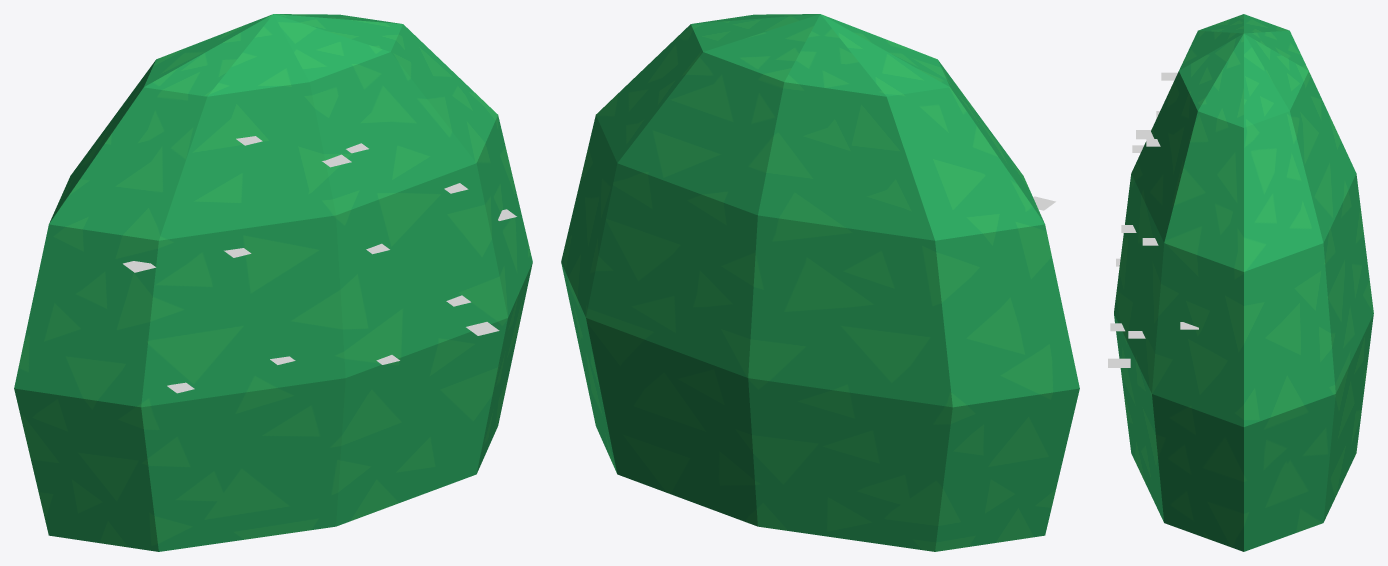
Rendered from bush_2x1.glb.
3 renders of one model, left to right at view 1: azimuth 30°, elevation 25°; view 2: azimuth 150°, elevation 25°; view 3: azimuth 270°, elevation 25°, orthographic. The views are drawn at different scales.
Visible parts, largest first — view 1: bush_2x1; view 2: bush_2x1; view 3: bush_2x1.
Part boxes in pixels (box(x1,y1,x2,y2)): bush_2x1: box(14, 14, 532, 551); bush_2x1: box(561, 14, 1079, 551); bush_2x1: box(1114, 14, 1373, 551).
Size of the model in its own units: 1.47 by 1.26 by 0.7252.
Materials: 4 (1 with a texture image).
